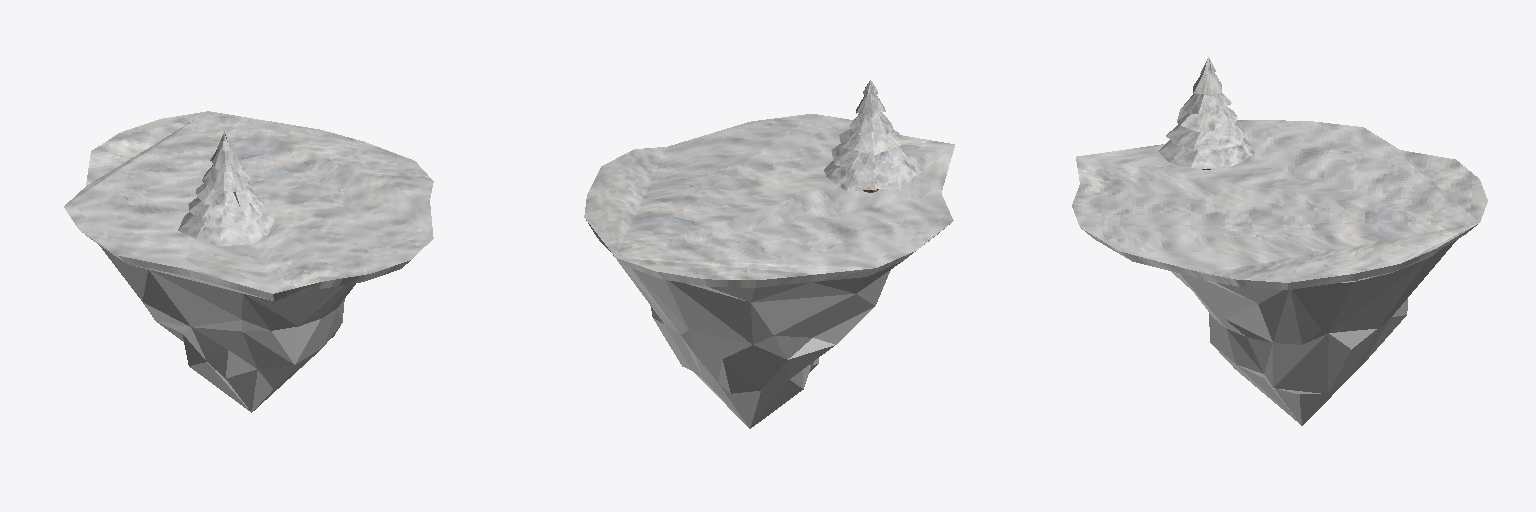
The picture shows the model from 3 angles: view 1: azimuth 30°, elevation 25°; view 2: azimuth 150°, elevation 25°; view 3: azimuth 270°, elevation 25°; orthographic projection.
Parts seen in each view (by area): view 1: Island_Grass_Cylinder.004, Island_Cylinder.003, Tree_Mid_Plant_Cylinder.001; view 2: Island_Grass_Cylinder.004, Island_Cylinder.003, Tree_Mid_Plant_Cylinder.001; view 3: Island_Grass_Cylinder.004, Island_Cylinder.003, Tree_Mid_Plant_Cylinder.001.
Boxes of the visible parts, x1,y1,x2,y2 form: Island_Grass_Cylinder.004: [64, 111, 433, 300]; Island_Cylinder.003: [99, 245, 355, 412]; Tree_Mid_Plant_Cylinder.001: [178, 132, 273, 245]; Island_Grass_Cylinder.004: [584, 114, 954, 287]; Island_Cylinder.003: [616, 258, 902, 428]; Tree_Mid_Plant_Cylinder.001: [824, 80, 916, 191]; Island_Grass_Cylinder.004: [1072, 120, 1487, 289]; Island_Cylinder.003: [1171, 239, 1457, 425]; Tree_Mid_Plant_Cylinder.001: [1158, 57, 1255, 169].
Size of the model in its own units: 5.89 by 5.76 by 6.52.
6 materials, 3 textured.